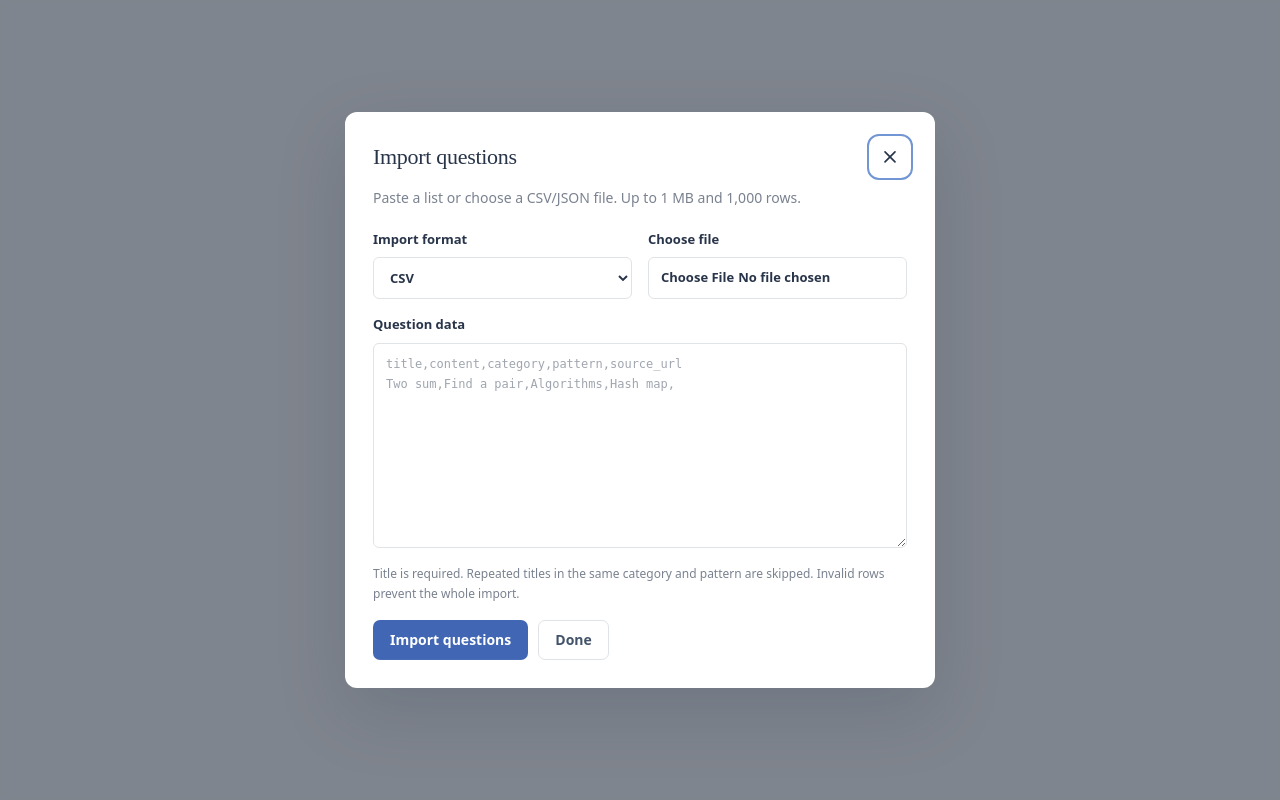
it: practice workspace › keeps invalid JSON imports local and reports row-level server errors
Select "JSON" in the dropdown labelled "Import format". click: (502, 278)
box: [373,257,632,299]
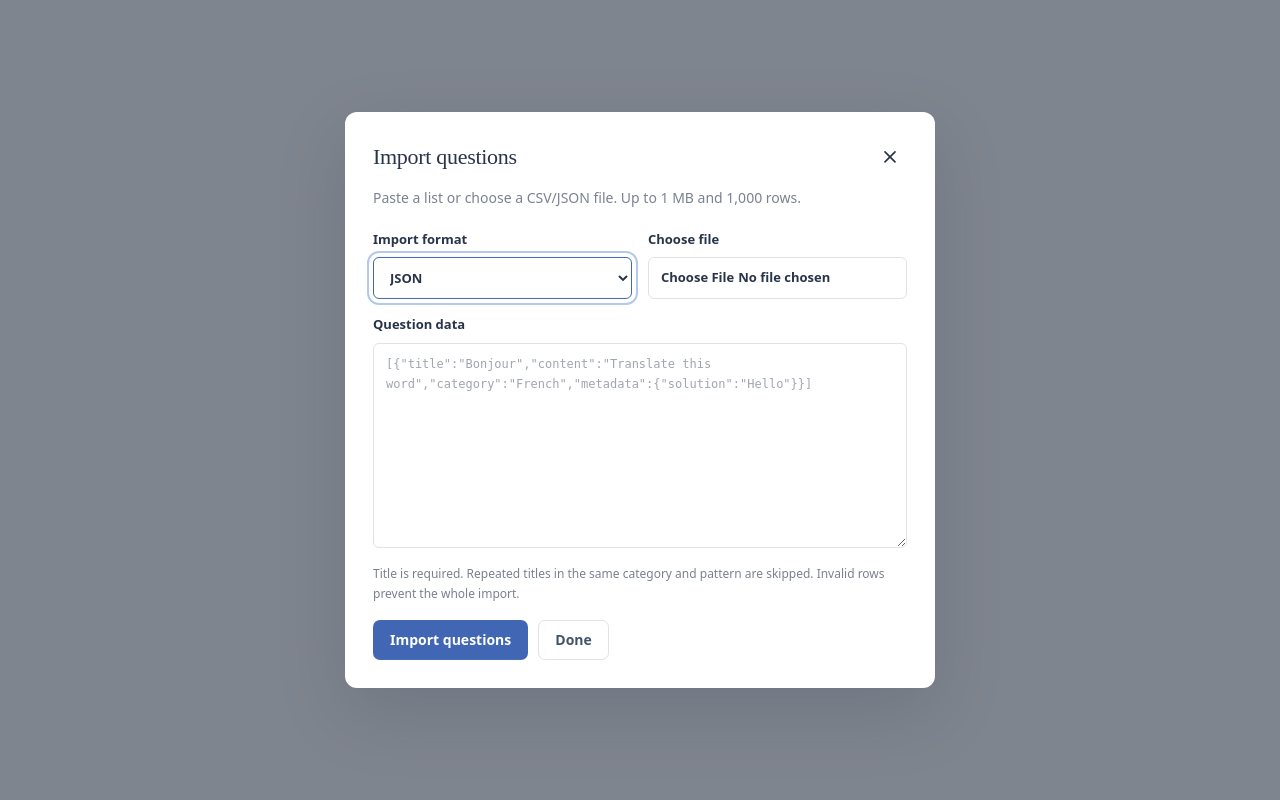
Type "not json" into the text box labelled "Question data". click: (640, 446)
box: [373,343,907,548]
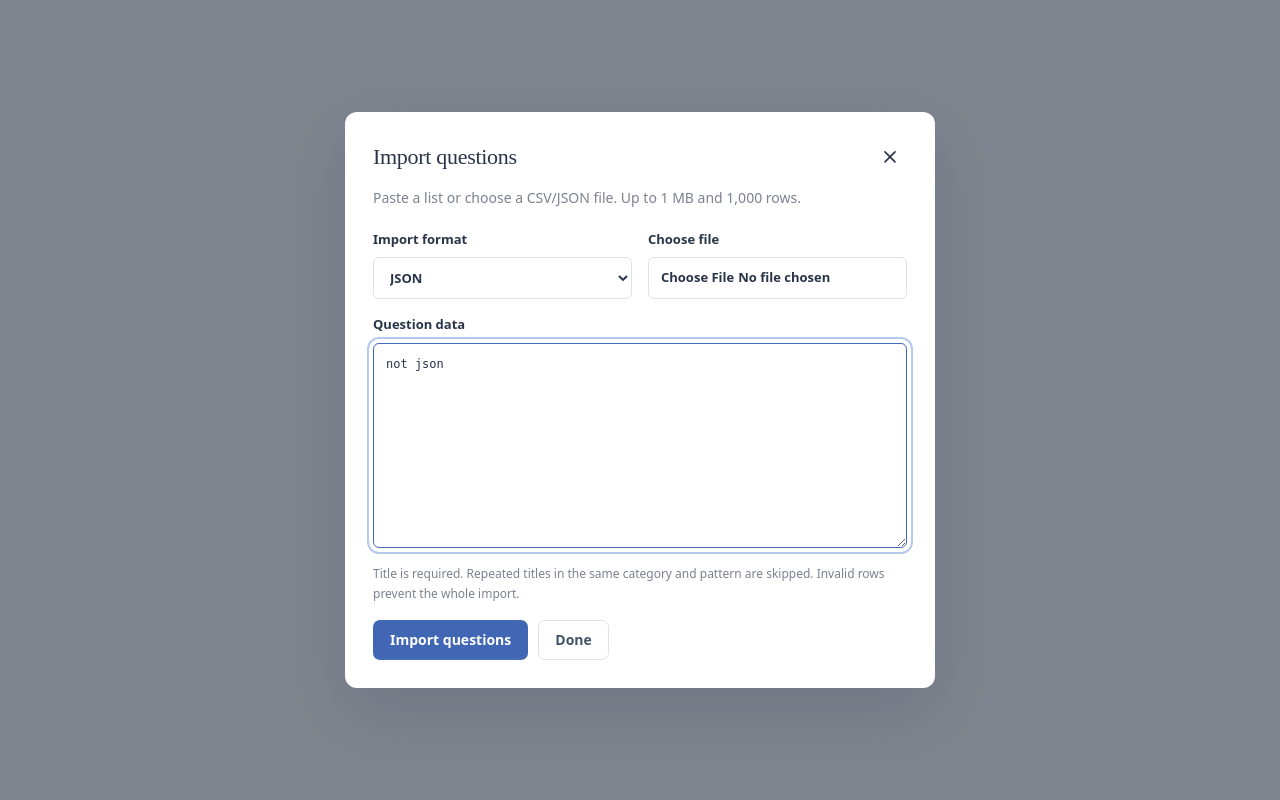
Click the button "Import questions". click: (451, 640)
box: [373,620,528,660]
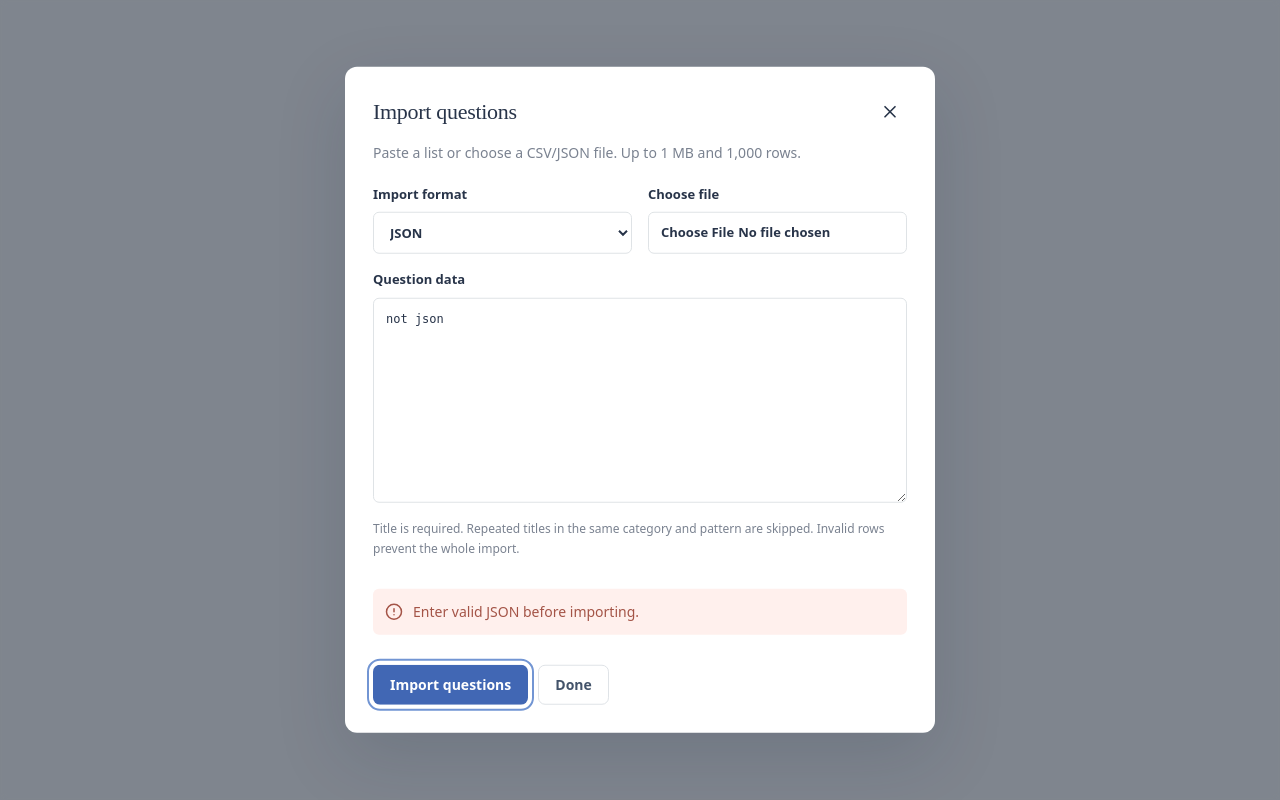
Expected: the text "Enter valid JSON before importing." is shown, [413,601,639,623]
